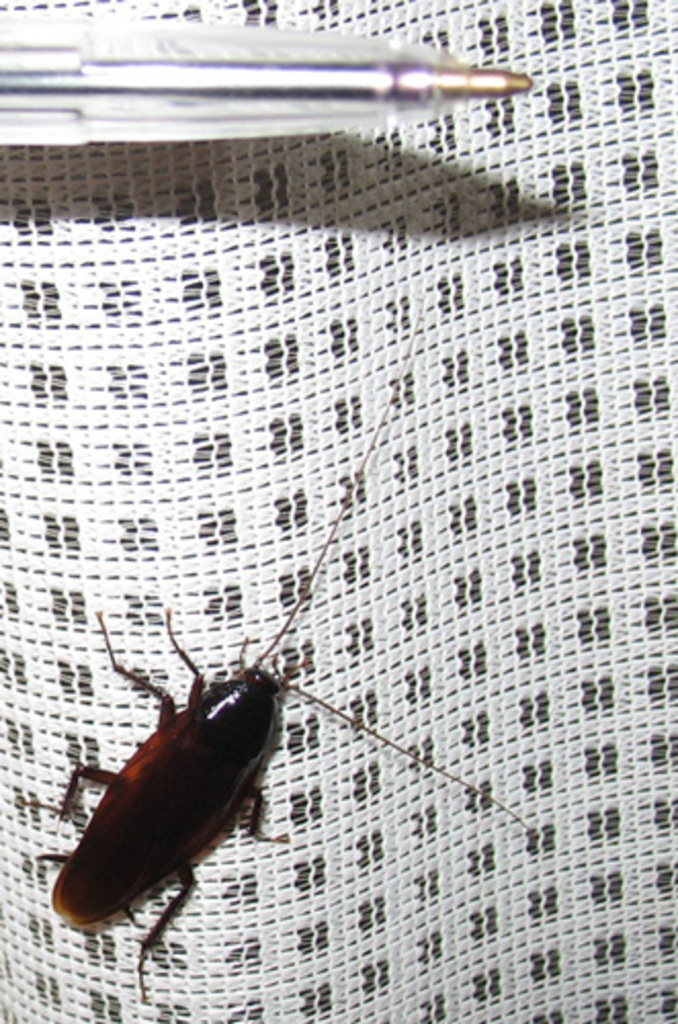Pen: (0, 2, 551, 141)
